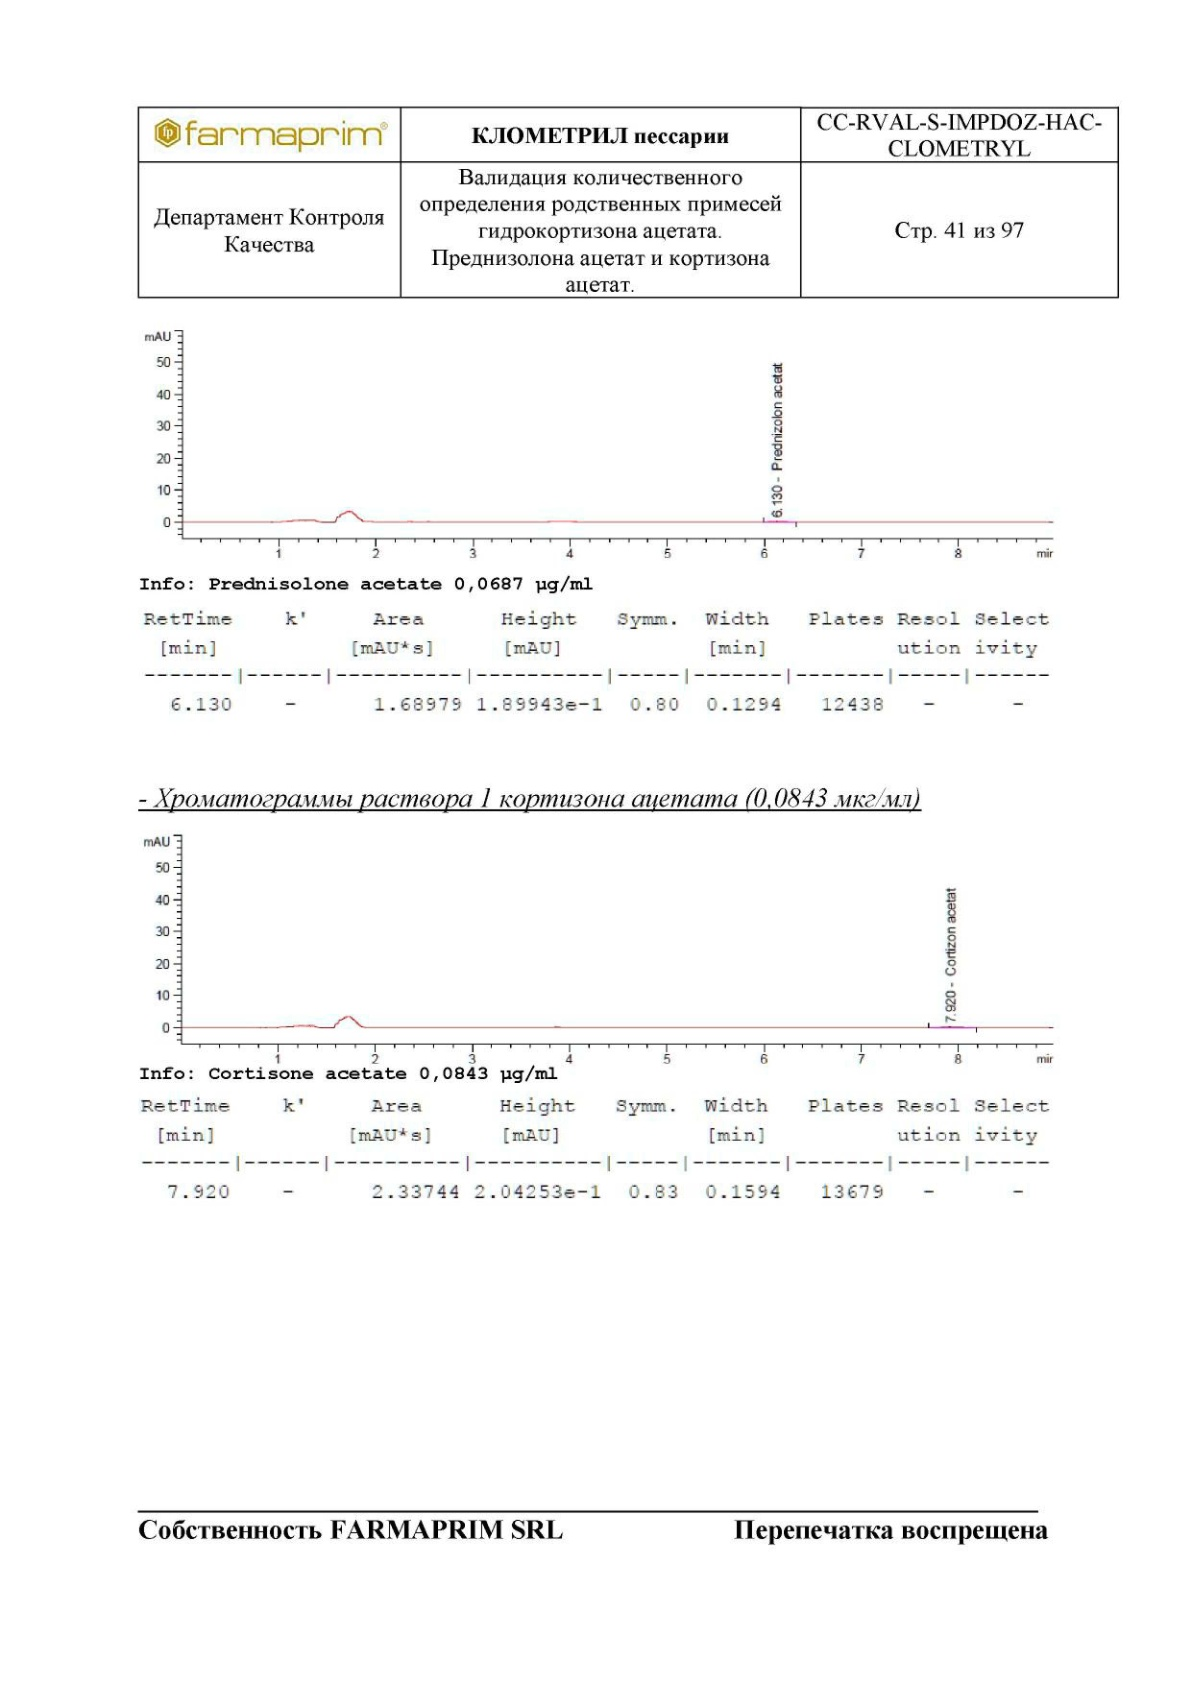full_lined: (137, 104, 1121, 300)
partial_lined: (138, 606, 1057, 720), (138, 1093, 1053, 1206)
